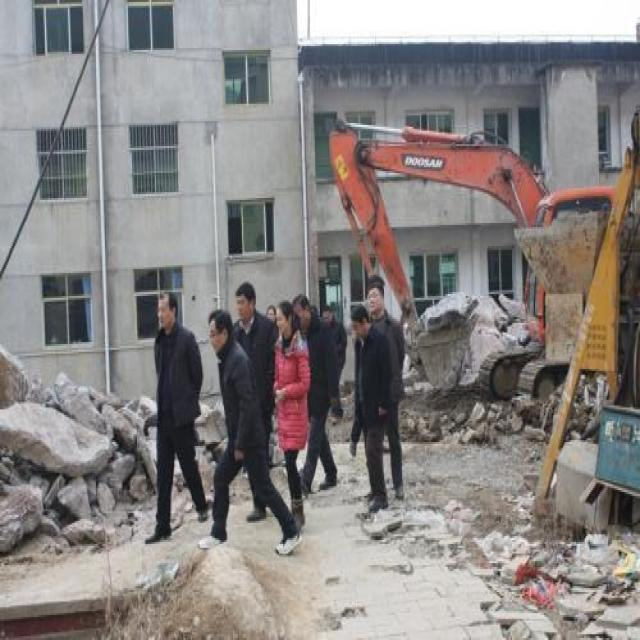no hat: (207, 310, 237, 360), (234, 276, 259, 326), (154, 288, 180, 334), (349, 304, 372, 346), (366, 277, 387, 321), (293, 290, 314, 333), (272, 300, 294, 338)
